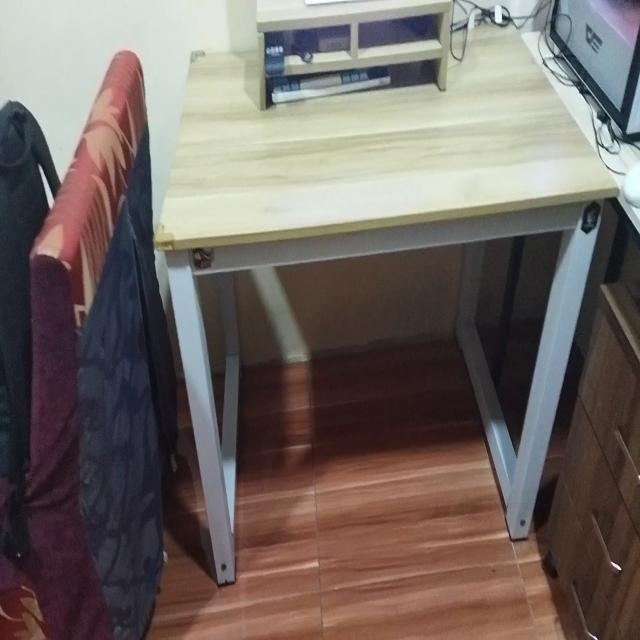table: (152, 17, 618, 574)
